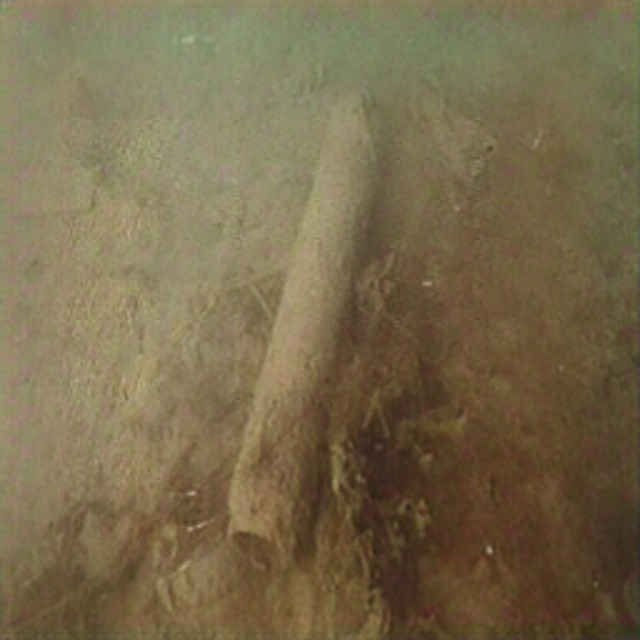mine: (225, 78, 390, 577)
